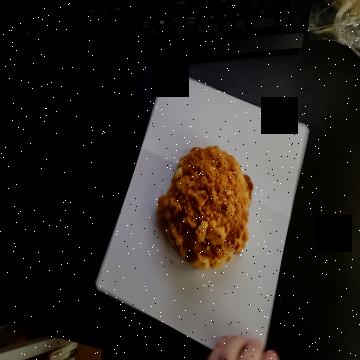soboru_bread: (154, 146, 255, 274)
